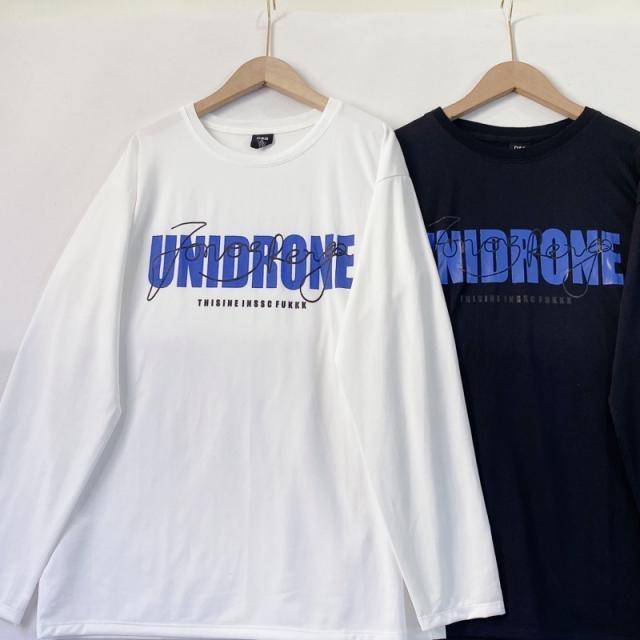Shirt: (0, 81, 513, 640), (310, 98, 640, 640)
